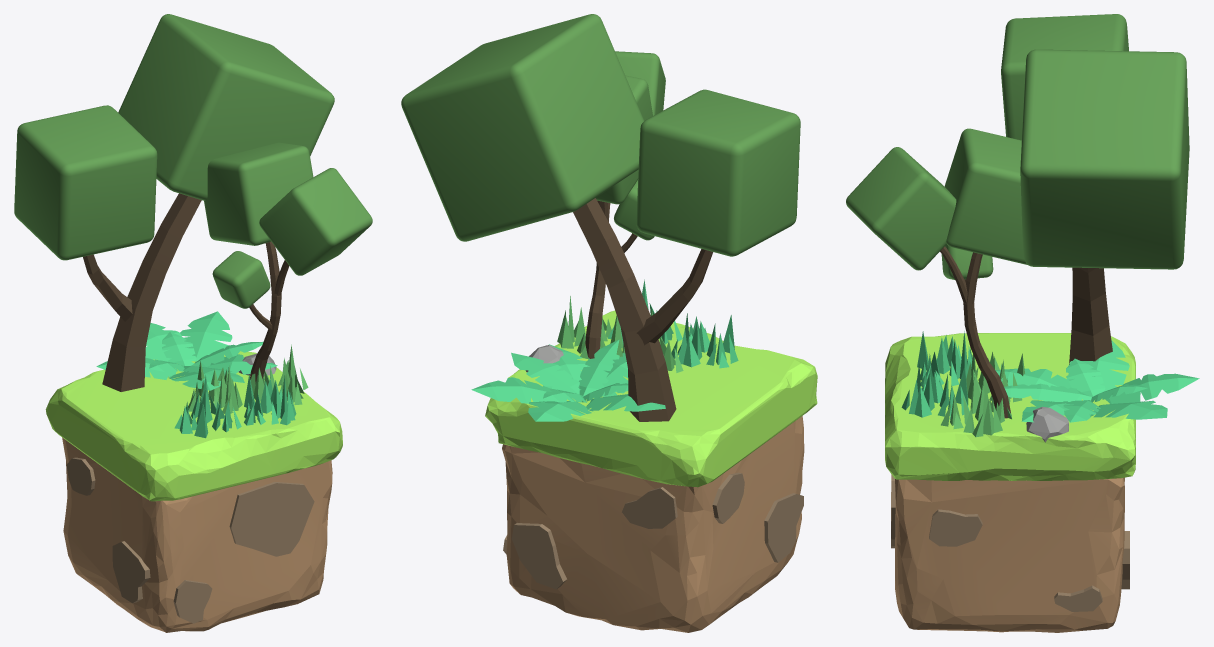
File: treeFloor_block.glb
3 renders of one model, left to right at view 1: azimuth 30°, elevation 25°; view 2: azimuth 150°, elevation 25°; view 3: azimuth 270°, elevation 25°, orthographic. The views are drawn at different scales.
Parts seen in each view (by area): view 1: TreeV3_004, Tile_Bot_Part, Tile_Top_Part, TreeV3_005__1_, Tile_Decor_Part, Bush_003, Grass_TypeB_Big_001__1_, Grass_TypeB_Big_001, Grass_TypeB_Big, Grass_TypeB_Big__1_; view 2: TreeV3_004, Tile_Bot_Part, Tile_Top_Part, Bush_003, Tile_Decor_Part, TreeV3_005__1_, Grass_TypeB_Big_001, Grass_TypeB_Big__1_; view 3: TreeV3_004, Tile_Bot_Part, Tile_Top_Part, TreeV3_005__1_, Bush_003, Tile_Decor_Part, Grass_TypeB_Big__1_, Grass_TypeB_Big_001__1_, Grass_TypeB_Big_001, LittleStone_006, Grass_TypeB_Big.
Boxes of the visible parts, x1,y1,x2,y2 form: TreeV3_004: (14, 14, 334, 391); Tile_Bot_Part: (62, 437, 332, 632); Tile_Top_Part: (45, 351, 342, 501); TreeV3_005__1_: (204, 142, 372, 383); Tile_Decor_Part: (66, 457, 314, 623); Bush_003: (96, 311, 277, 390); Grass_TypeB_Big_001__1_: (244, 375, 296, 425); Grass_TypeB_Big_001: (174, 375, 241, 438); Grass_TypeB_Big: (188, 361, 242, 413); Grass_TypeB_Big__1_: (250, 344, 308, 405); TreeV3_004: (401, 14, 800, 421); Tile_Bot_Part: (502, 416, 804, 632); Tile_Top_Part: (485, 310, 817, 487); Bush_003: (471, 339, 665, 421); Tile_Decor_Part: (503, 472, 803, 589); TreeV3_005__1_: (585, 51, 665, 358); Grass_TypeB_Big_001: (671, 313, 738, 368); Grass_TypeB_Big__1_: (557, 296, 622, 359); TreeV3_004: (1001, 14, 1189, 364); Tile_Bot_Part: (895, 477, 1124, 632); Tile_Top_Part: (885, 333, 1135, 480); TreeV3_005__1_: (846, 128, 1027, 418); Bush_003: (989, 340, 1199, 422); Tile_Decor_Part: (891, 474, 1129, 611); Grass_TypeB_Big__1_: (941, 374, 1011, 437); Grass_TypeB_Big_001__1_: (901, 363, 969, 419); Grass_TypeB_Big_001: (917, 331, 972, 386); LittleStone_006: (1026, 406, 1068, 442); Grass_TypeB_Big: (966, 352, 1024, 404).
Size of the model in its own units: 1.76 by 2.99 by 1.69.
1 material, 1 textured.
